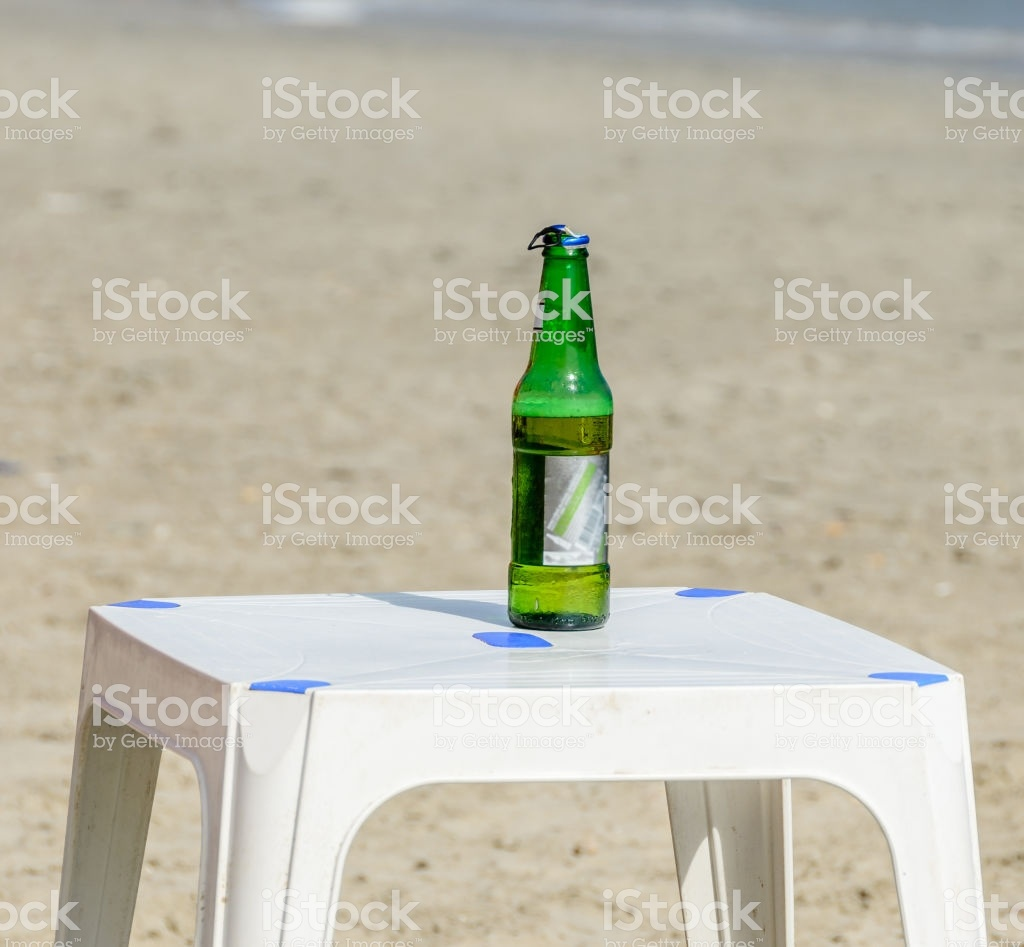beerBottle: (505, 234, 614, 629)
